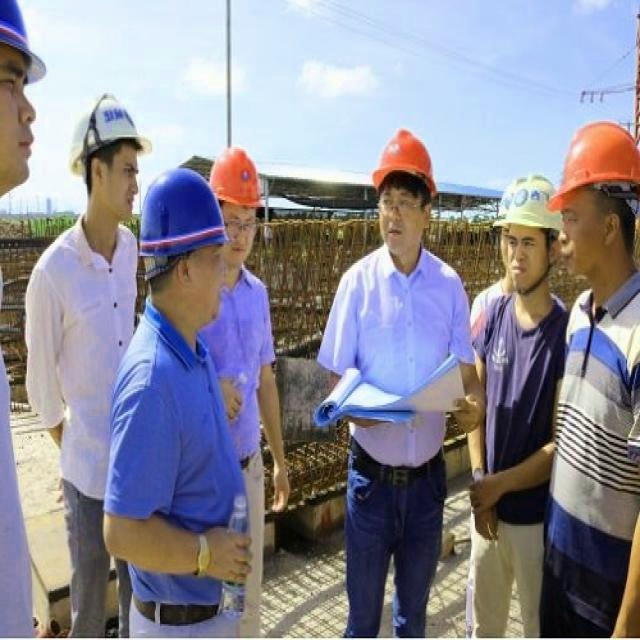Con_Casco: (375, 131, 439, 249)
Sin_Chaleco: (342, 261, 463, 447)
